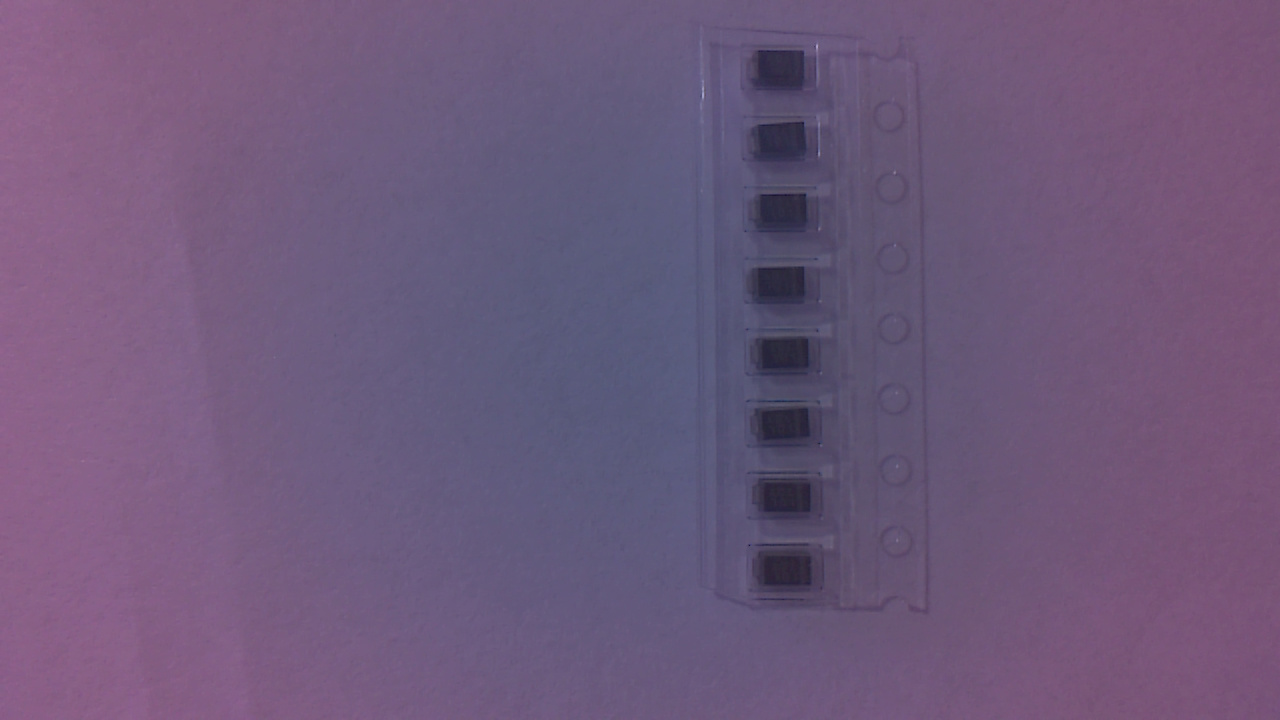Diode: (745, 52, 822, 98), (750, 121, 819, 167), (754, 406, 823, 452), (754, 478, 821, 523), (754, 336, 824, 379), (757, 551, 824, 595), (752, 195, 820, 237), (755, 265, 820, 308)
